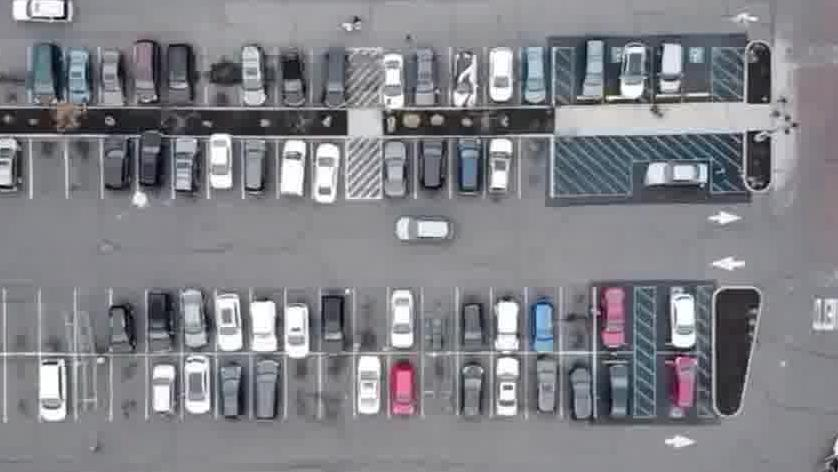car: (350, 358, 388, 425), (36, 357, 71, 427), (22, 45, 58, 110), (161, 44, 196, 109), (307, 141, 342, 206), (637, 158, 708, 190), (13, 0, 77, 34), (128, 41, 159, 110), (98, 138, 134, 197), (493, 359, 526, 423), (250, 363, 282, 429), (178, 354, 212, 416), (397, 211, 457, 246), (481, 138, 514, 201), (135, 132, 168, 195), (214, 360, 246, 423), (317, 292, 348, 357), (316, 51, 347, 115), (273, 146, 306, 206), (277, 300, 311, 358), (144, 289, 175, 352), (149, 359, 180, 422), (238, 142, 270, 203), (598, 284, 628, 349), (388, 284, 417, 349), (240, 43, 268, 110), (457, 363, 488, 423), (387, 363, 418, 423), (247, 298, 279, 356), (612, 42, 645, 98), (213, 293, 243, 354), (379, 143, 408, 205), (416, 140, 446, 199), (454, 138, 483, 199), (489, 300, 520, 357), (486, 42, 515, 102), (406, 49, 435, 109), (566, 364, 594, 426), (652, 40, 683, 96), (168, 138, 197, 197), (671, 355, 700, 414), (576, 42, 605, 100), (62, 50, 91, 108), (107, 301, 137, 357), (604, 361, 631, 423), (668, 291, 696, 350), (519, 44, 546, 105), (278, 52, 304, 115), (375, 55, 402, 115), (182, 286, 207, 350), (448, 53, 476, 110), (531, 358, 558, 417), (208, 129, 234, 190), (529, 301, 558, 354), (98, 50, 123, 111), (0, 143, 23, 201), (459, 304, 483, 357)
